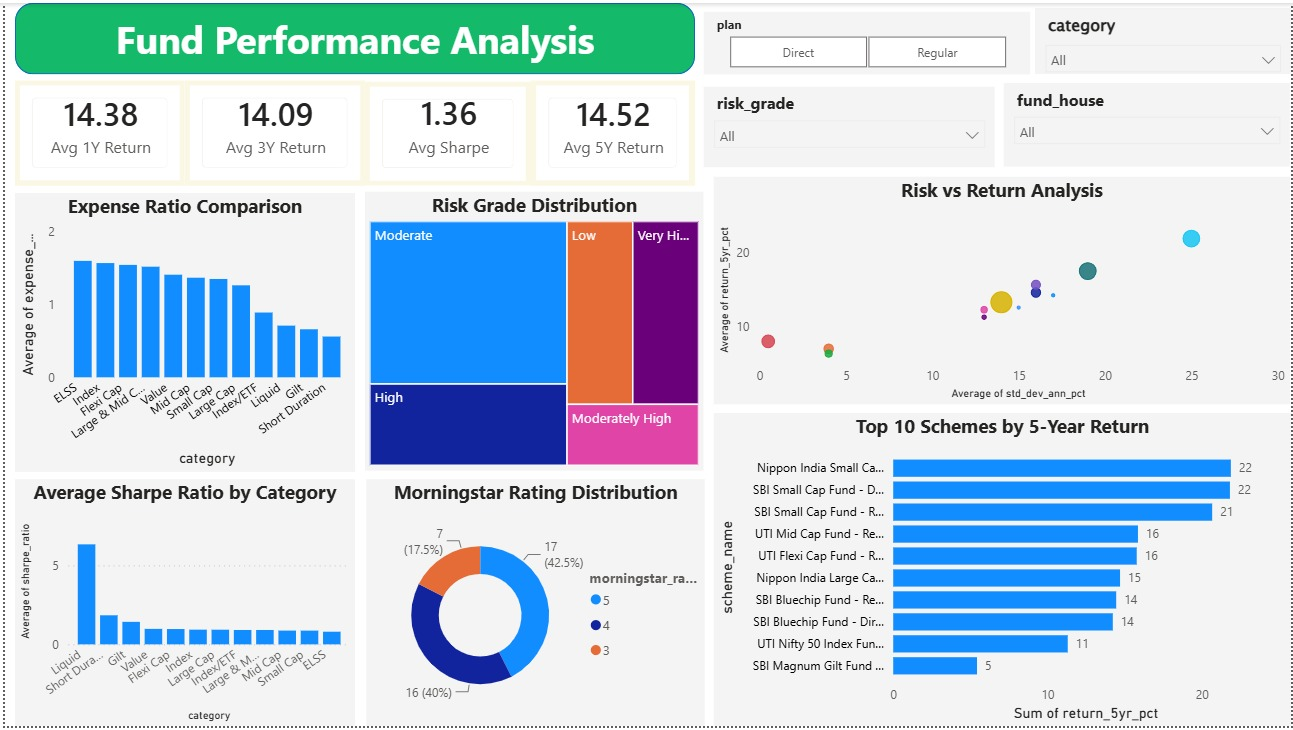

The dashboard page shown, as its layout file describes it:
{"tool":"powerbi","page":{"name":"Page 2","canvas":[1280,720],"ordinal":1},"visuals":[{"type":"shape","box":[10,0,676.7,70.9],"z":0},{"type":"cardVisual","fields":{"Data":["01_fund_master_cleaned.Avg 3Y Return"]},"box":[179.1,77.1,179.1,104.5],"z":1000},{"type":"cardVisual","fields":{"Data":["01_fund_master_cleaned.Avg 1Y Return"]},"box":[10,77.1,169.2,104.5],"z":2000},{"type":"cardVisual","fields":{"Data":["01_fund_master_cleaned.Avg Sharpe"]},"box":[358.3,78.4,165.4,103.2],"z":3000},{"type":"cardVisual","fields":{"Data":["01_fund_master_cleaned.Avg 5Y Return"]},"box":[523.7,77.1,163,104.5],"z":4000},{"type":"barChart","title":"Top 10 Schemes by 5-Year Return","fields":{"Y":["Sum(07_scheme_performance_cleaned.return_5yr_pct)"],"Category":["07_scheme_performance_cleaned.scheme_name"]},"box":[705.3,408,574.7,312.2],"z":5000},{"type":"scatterChart","title":"Risk vs Return Analysis","fields":{"Y":["Avg(07_scheme_performance_cleaned.return_5yr_pct)"],"X":["Avg(07_scheme_performance_cleaned.std_dev_ann_pct)"],"Size":["Sum(07_scheme_performance_cleaned.aum_crore)"],"Series":["07_scheme_performance_cleaned.category"]},"box":[705.3,172.9,573.5,226.4],"z":6000},{"type":"columnChart","title":"Expense Ratio Comparison","fields":{"Category":["07_scheme_performance_cleaned.category"],"Y":["Avg(07_scheme_performance_cleaned.expense_ratio_pct)"]},"box":[10,189.1,338.4,277.4],"z":7000},{"type":"donutChart","title":"Morningstar Rating Distribution","fields":{"Category":["07_scheme_performance_cleaned.morningstar_rating"],"Y":["CountNonNull(07_scheme_performance_cleaned.scheme_name)"]},"box":[359.5,473.9,337.1,246.3],"z":8000},{"type":"treemap","title":"Risk Grade Distribution","fields":{"Values":["CountNonNull(07_scheme_performance_cleaned.scheme_name)"],"Group":["07_scheme_performance_cleaned.risk_grade"]},"box":[358.3,187.8,337.1,277.4],"z":9000},{"type":"clusteredColumnChart","title":"Average Sharpe Ratio by Category","fields":{"Category":["07_scheme_performance_cleaned.category"],"Y":["Avg(07_scheme_performance_cleaned.sharpe_ratio)"]},"box":[10,473.9,338.4,246.3],"z":10000},{"type":"slicer","fields":{"Values":["07_scheme_performance_cleaned.category"]},"box":[1025,5,255,65.9],"z":11000},{"type":"slicer","fields":{"Values":["07_scheme_performance_cleaned.fund_house"]},"box":[993.9,79.6,284.9,83.3],"z":12000},{"type":"slicer","fields":{"Values":["07_scheme_performance_cleaned.risk_grade"]},"box":[695.4,83.3,289.8,79.6],"z":13000},{"type":"slicer","fields":{"Values":["07_scheme_performance_cleaned.plan"]},"box":[695.4,8.7,324.7,62.2],"z":14000}]}

Visuals, with their boxes in screenshot pixels (x1, y1, x2, y2), scaled from the page's 1280x720 canvas onto the 1293x730 screenshot:
shape: x1=10, y1=0, x2=694, y2=72
cardVisual - 01_fund_master_cleaned.Avg 3Y Return: x1=181, y1=78, x2=362, y2=184
cardVisual - 01_fund_master_cleaned.Avg 1Y Return: x1=10, y1=78, x2=181, y2=184
cardVisual - 01_fund_master_cleaned.Avg Sharpe: x1=362, y1=79, x2=529, y2=184
cardVisual - 01_fund_master_cleaned.Avg 5Y Return: x1=529, y1=78, x2=694, y2=184
"Top 10 Schemes by 5-Year Return" barChart: x1=712, y1=414, x2=1292, y2=729
"Risk vs Return Analysis" scatterChart: x1=712, y1=175, x2=1292, y2=405
"Expense Ratio Comparison" columnChart: x1=10, y1=192, x2=352, y2=473
"Morningstar Rating Distribution" donutChart: x1=363, y1=480, x2=704, y2=729
"Risk Grade Distribution" treemap: x1=362, y1=190, x2=702, y2=472
"Average Sharpe Ratio by Category" clusteredColumnChart: x1=10, y1=480, x2=352, y2=729
slicer - 07_scheme_performance_cleaned.category: x1=1035, y1=5, x2=1292, y2=72
slicer - 07_scheme_performance_cleaned.fund_house: x1=1004, y1=81, x2=1292, y2=165
slicer - 07_scheme_performance_cleaned.risk_grade: x1=702, y1=84, x2=995, y2=165
slicer - 07_scheme_performance_cleaned.plan: x1=702, y1=9, x2=1030, y2=72
